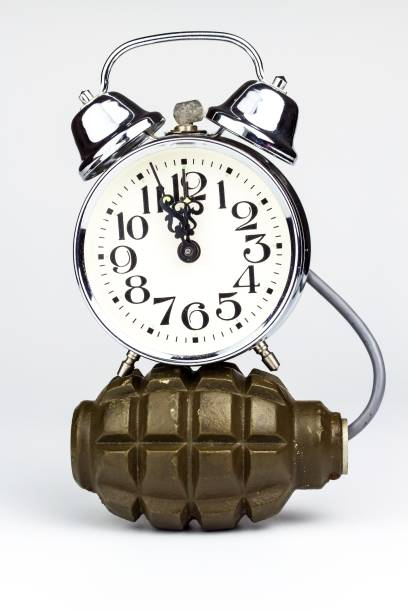e1: (71, 364, 359, 546)
